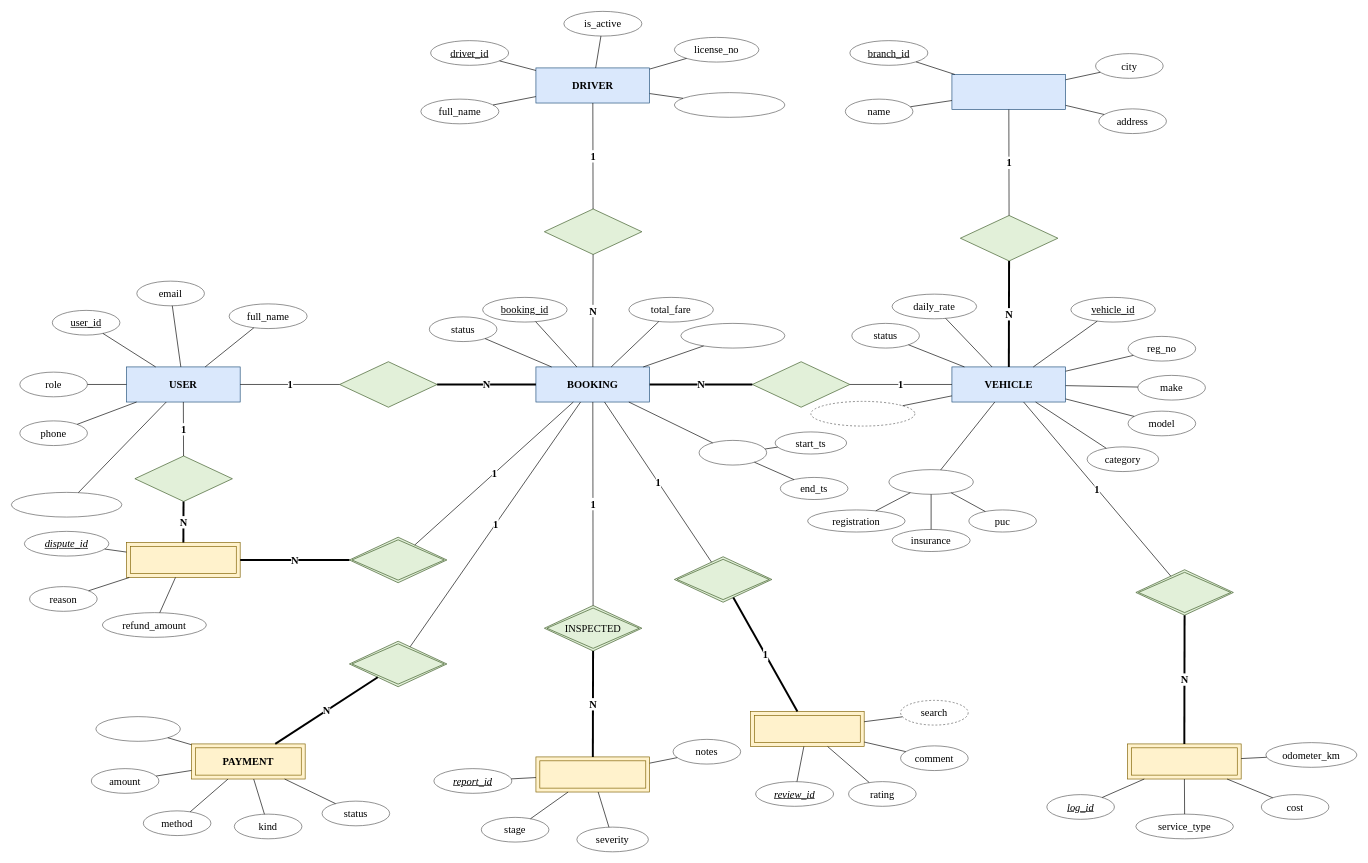
The diagram is 1368 pixels wide and 863 high, and some of its shapes have lost their labels. Here are the shapes that lost their labels. From the top down, the box of each, then its label:
(674, 92, 785, 117): license_expiry
(951, 74, 1066, 110): BRANCH
(544, 208, 642, 254): ASSIGNED_TO
(960, 215, 1058, 261): HOUSES
(680, 323, 785, 348): cancel_reason
(339, 361, 437, 407): MAKES
(752, 361, 850, 407): RENTED_IN
(810, 401, 915, 426): km_to_service
(698, 440, 767, 465): period
(134, 455, 232, 501): RAISES
(888, 469, 973, 494): doc_expiry
(11, 492, 122, 517): loyalty_points
(126, 542, 240, 578): DISPUTE
(349, 537, 447, 583): ABOUT
(674, 556, 772, 602): REVIEWED
(1135, 569, 1233, 615): SERVICED
(349, 641, 447, 687): PAID_BY
(95, 716, 180, 741): payment_id
(750, 711, 864, 747): REVIEW
(535, 756, 650, 792): DAMAGE_REPORT
(1127, 743, 1241, 779): MAINTENANCE_LOG
